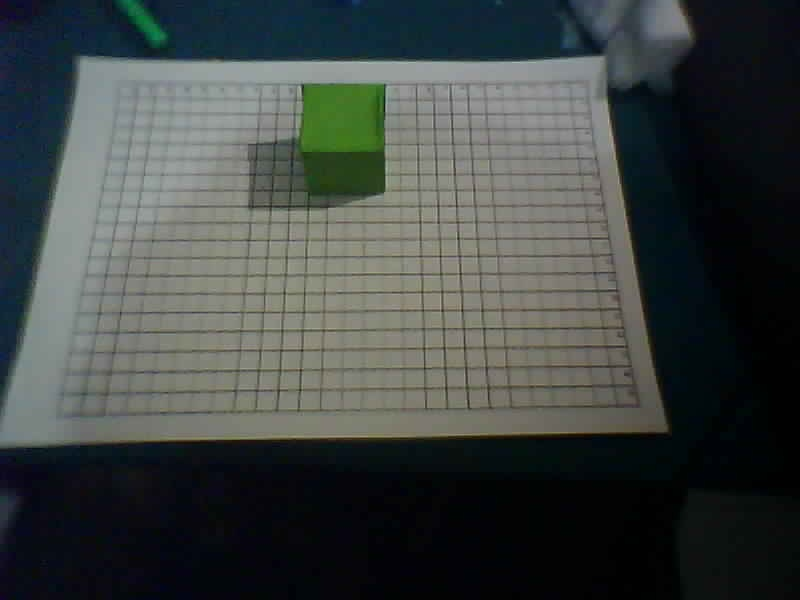LB: (54, 413, 62, 419)
LT: (117, 80, 125, 86)
RB: (634, 401, 642, 407)
RT: (584, 78, 592, 84)
